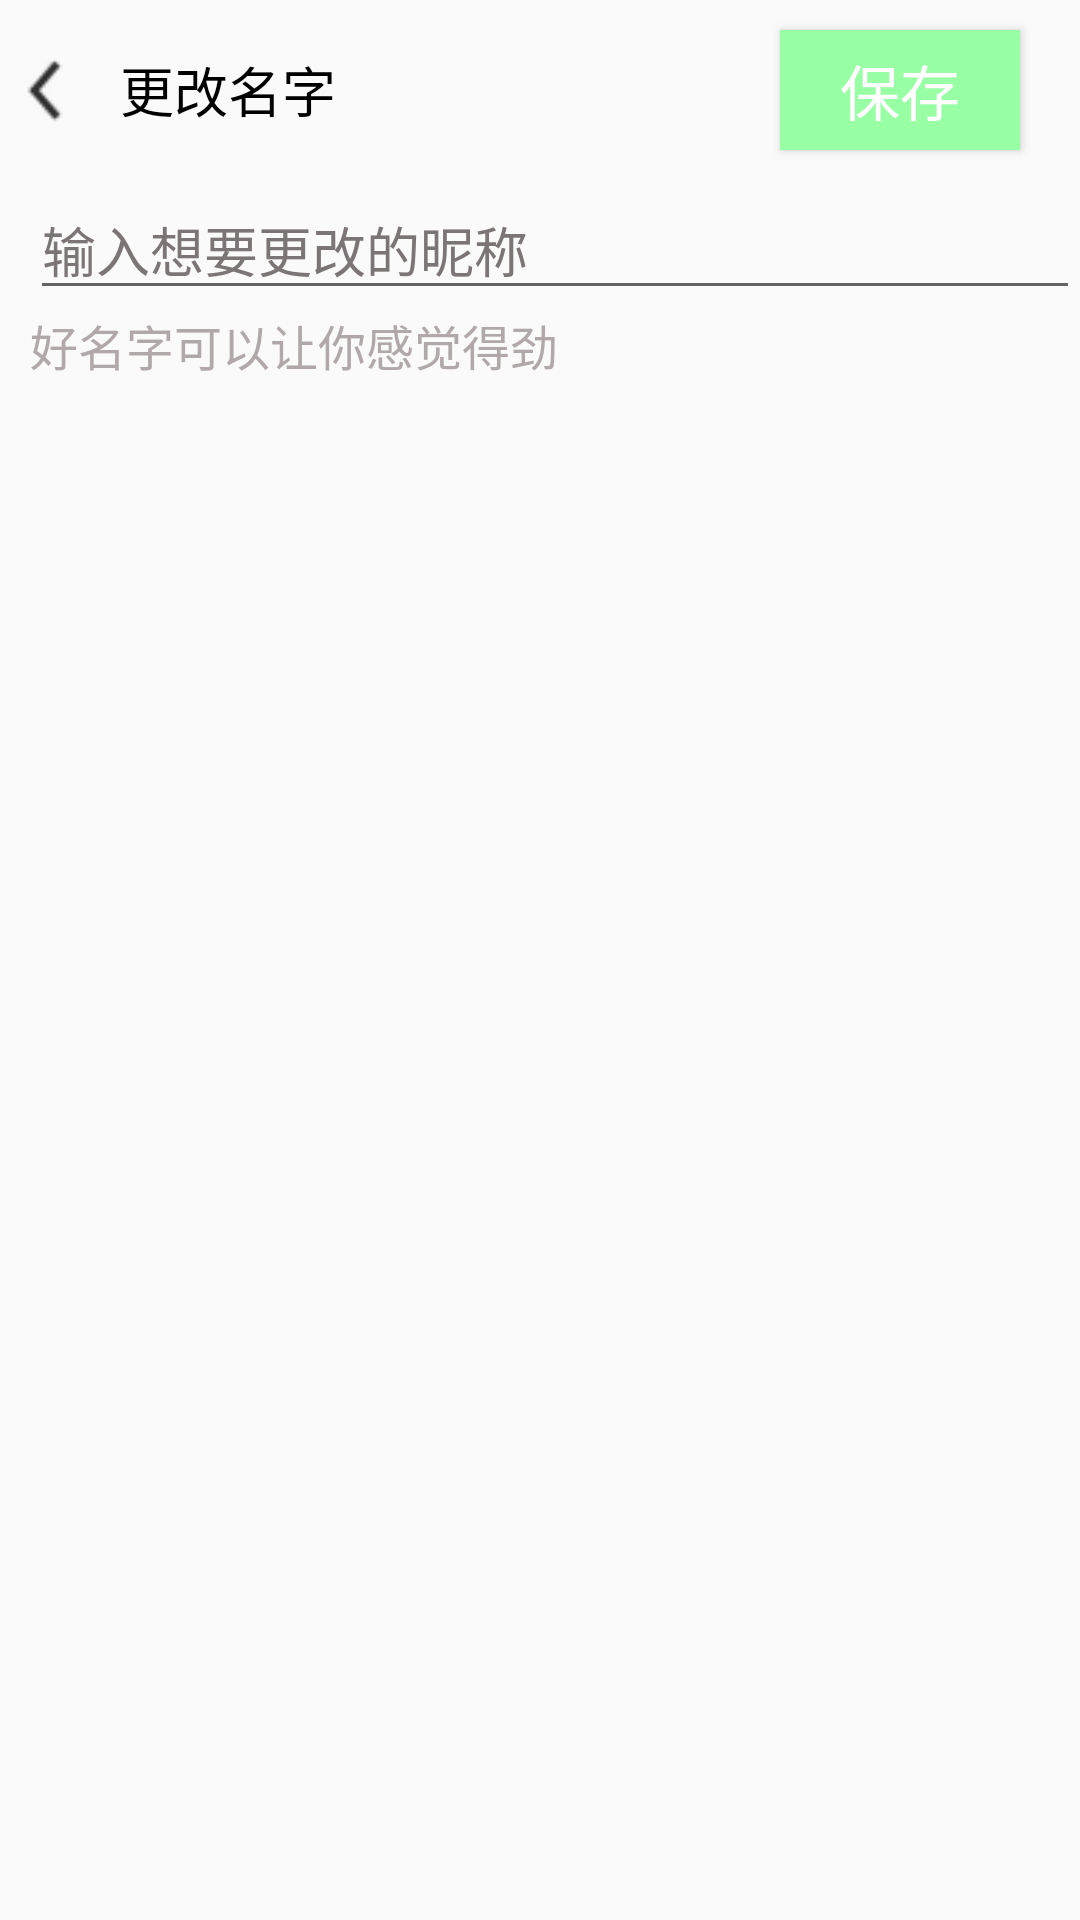

Point at icon controls on the screen. Image size 1080 × 1920, points as (x,y).
back: (44,91)
